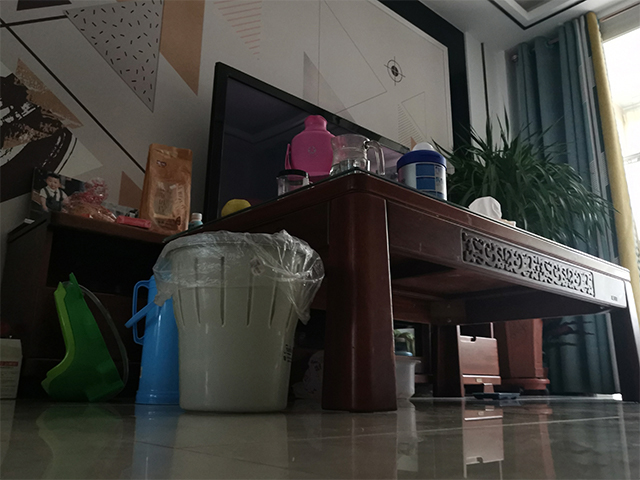curtain: (506, 9, 640, 400)
table: (158, 165, 639, 416)
trashcan: (156, 228, 312, 414)
